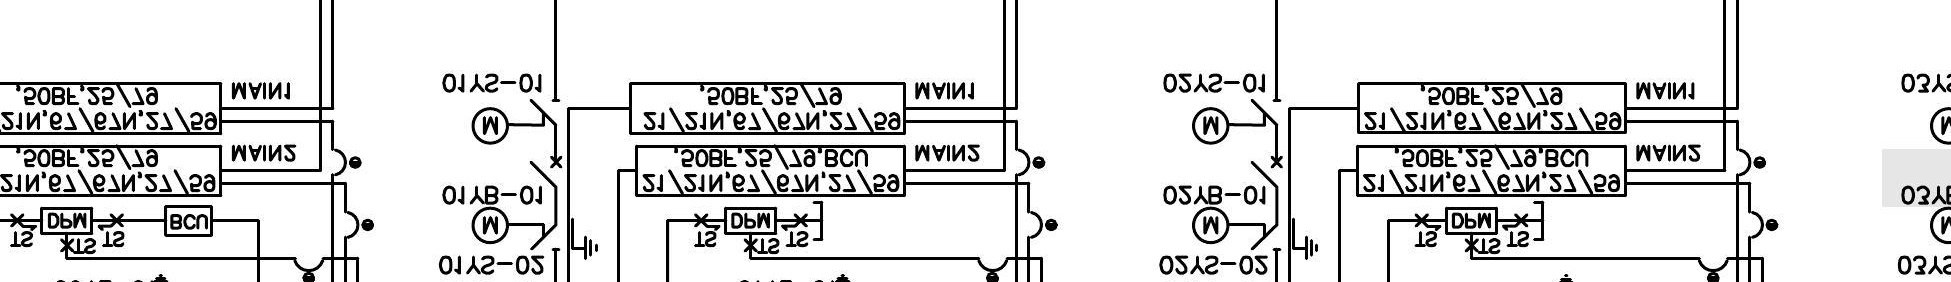115_1way_ds_w_motor: (470, 98, 561, 145), (1191, 98, 1282, 145)
115_3ways_ds_w_motor: (1191, 206, 1320, 261), (470, 206, 598, 261)
115_breaker: (530, 155, 562, 189), (1250, 155, 1283, 188)
BCU: (163, 205, 214, 237)
DPM: (40, 206, 93, 236), (723, 206, 778, 235), (1445, 206, 1498, 235)
